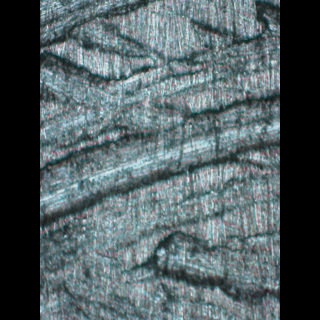Loch: (69, 82, 249, 231), (70, 0, 153, 150), (150, 225, 250, 319)
